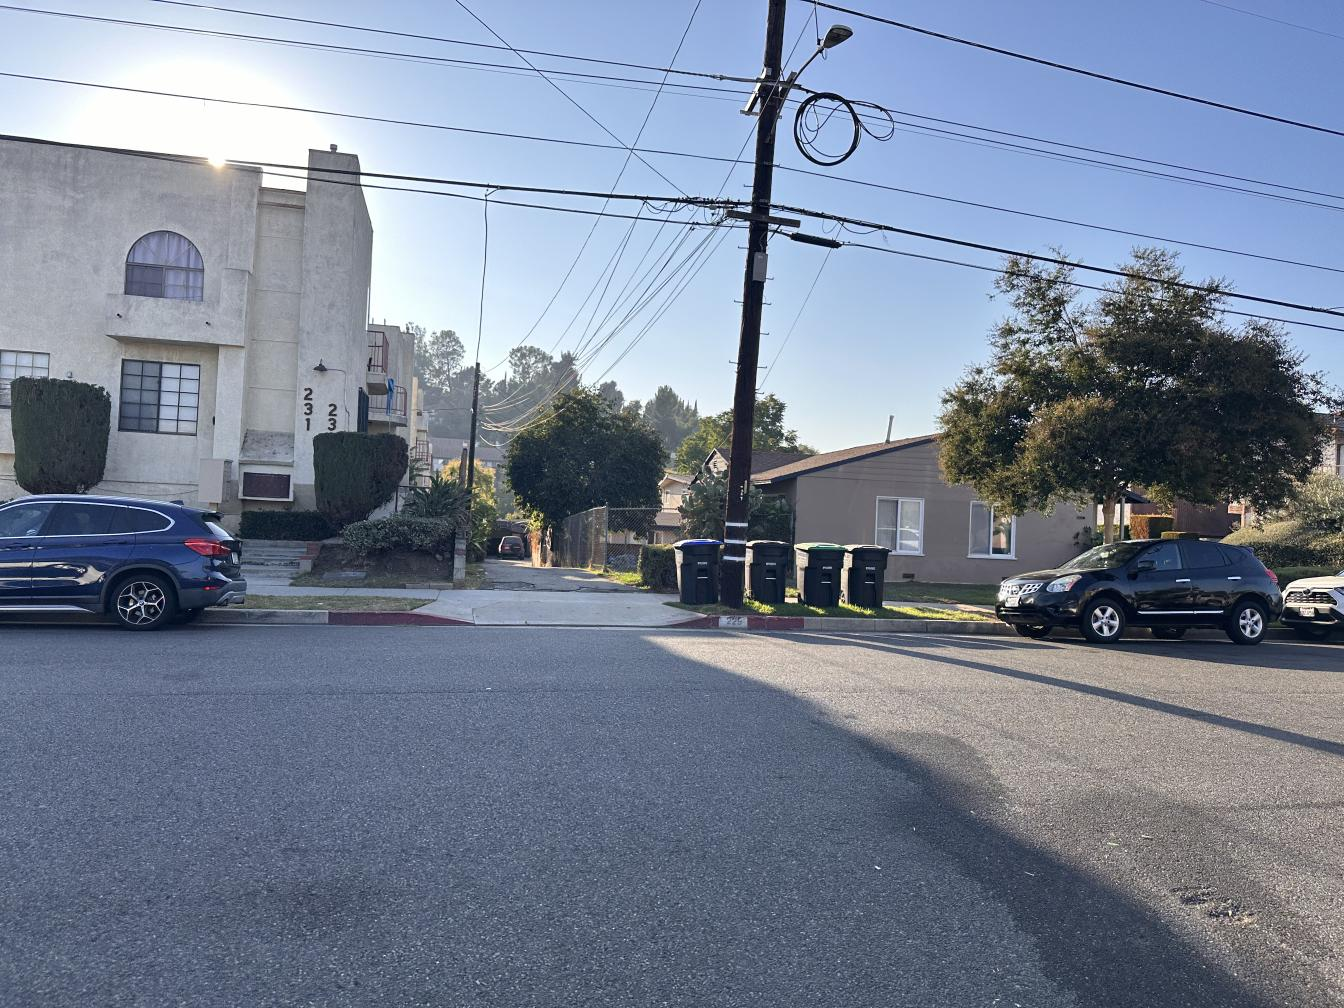curbs-laRr: (804, 616, 993, 634), (254, 608, 329, 626)
